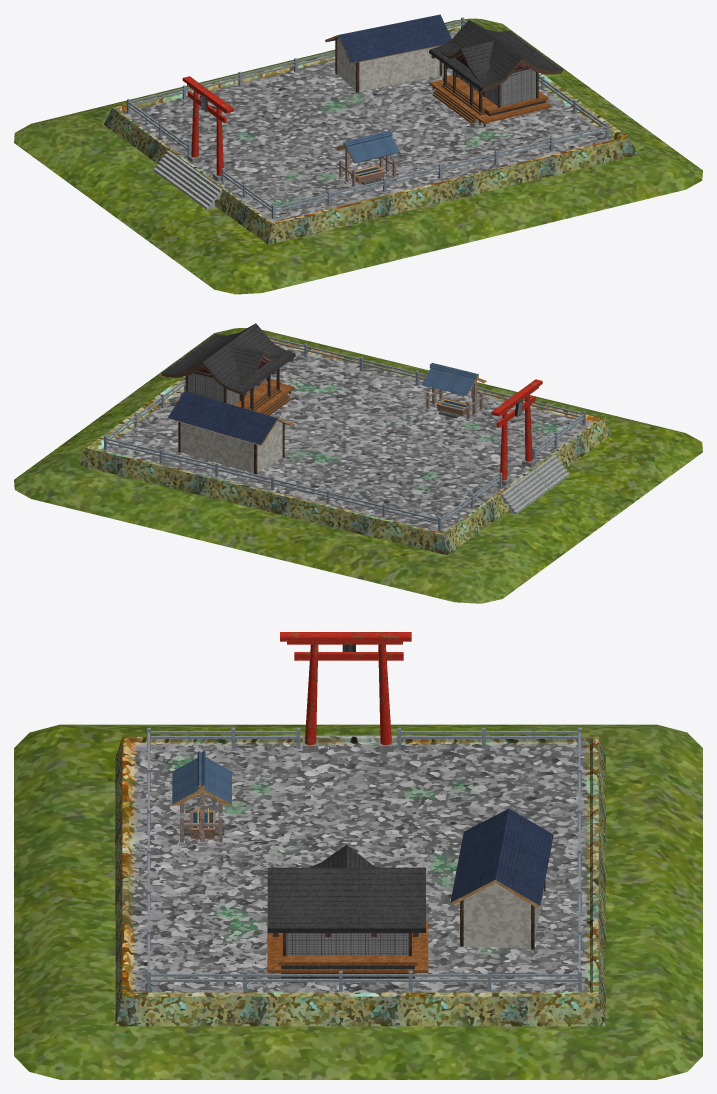
The model's file is bossstage.fbx.
3 views of the same model, one above another, from view 1: azimuth 30°, elevation 25°; view 2: azimuth 150°, elevation 25°; view 3: azimuth 270°, elevation 25° (orthographic). The views are drawn at different scales.
Visible parts, largest first — view 1: pCube93, pPlane5, honden2, pCube104, tyouzu1, pCube94, pCube95, pCube99, pCylinder4; view 2: pCube93, pPlane5, honden2, pCube104, tyouzu1, pCube94, pCube95, pCube99, pCylinder3; view 3: pCube93, pPlane5, honden2, pCube104, tyouzu1, pCube99, pCylinder4, pCylinder3, pCube96, polySurface24.
Part boxes in pixels (left/top/right/bottom): pCube93: left=104, top=21, right=637, bottom=244; pPlane5: left=14, top=18, right=702, bottom=294; honden2: left=429, top=20, right=563, bottom=126; pCube104: left=325, top=14, right=451, bottom=92; tyouzu1: left=335, top=130, right=400, bottom=187; pCube94: left=161, top=150, right=222, bottom=199; pCube95: left=153, top=161, right=214, bottom=209; pCube99: left=182, top=76, right=233, bottom=112; pCylinder4: left=216, top=107, right=223, bottom=175; pCube93: left=78, top=338, right=611, bottom=555; pPlane5: left=14, top=328, right=702, bottom=603; honden2: left=161, top=323, right=295, bottom=415; pCube104: left=167, top=391, right=294, bottom=474; tyouzu1: left=421, top=363, right=486, bottom=420; pCube94: left=501, top=455, right=562, bottom=504; pCube95: left=508, top=465, right=569, bottom=514; pCube99: left=491, top=379, right=542, bottom=416; pCylinder3: left=500, top=411, right=507, bottom=480; pCube93: left=115, top=736, right=605, bottom=1026; pPlane5: left=14, top=724, right=702, bottom=1079; honden2: left=267, top=844, right=428, bottom=978; pCube104: left=450, top=808, right=553, bottom=949; tyouzu1: left=172, top=751, right=231, bottom=845; pCube99: left=280, top=632, right=411, bottom=641; pCylinder4: left=304, top=644, right=318, bottom=745; pCylinder3: left=378, top=644, right=391, bottom=745; pCube96: left=294, top=652, right=403, bottom=660; polySurface24: left=487, top=970, right=581, bottom=991.
Size of the model in its own units: 408 by 83.12 by 334.
